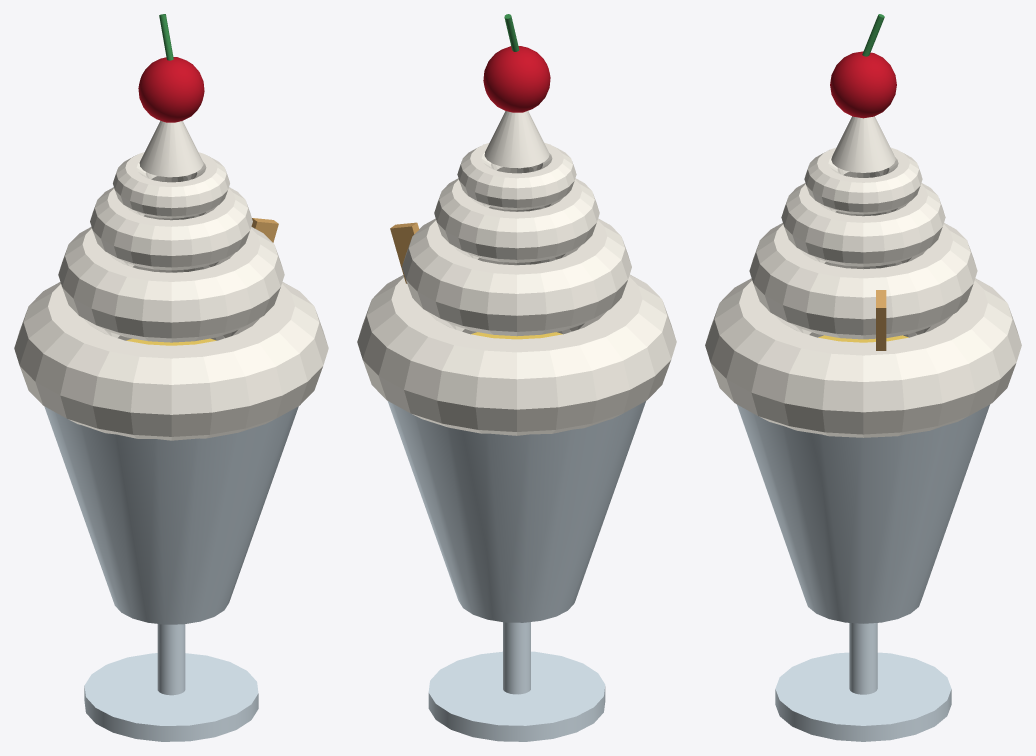
The model's file is Cafe_L8.fbx.
3 views of the same model, side by side, from view 1: azimuth 30°, elevation 25°; view 2: azimuth 150°, elevation 25°; view 3: azimuth 270°, elevation 25° (orthographic).
Parts seen in each view (by area): view 1: C8_Glass, C8_Cream_1, C8_Cream_2, C8_Base, C8_Cream_3, C8_Cream_4, C8_Cherry, C8_Cream_Tip, C8_Stem; view 2: C8_Glass, C8_Cream_1, C8_Cream_2, C8_Base, C8_Cream_3, C8_Cream_4, C8_Cherry, C8_Cream_Tip, C8_Stem, C8_Wafer; view 3: C8_Glass, C8_Cream_1, C8_Cream_2, C8_Base, C8_Cream_3, C8_Cream_4, C8_Cherry, C8_Cream_Tip, C8_Stem, C8_Wafer.
Boxes of the visible parts, x1,y1,x2,y2 form: C8_Glass: [44, 406, 298, 624]; C8_Cream_1: [14, 282, 328, 440]; C8_Cream_2: [58, 227, 284, 342]; C8_Base: [84, 653, 258, 741]; C8_Cream_3: [90, 187, 252, 270]; C8_Cream_4: [113, 152, 229, 218]; C8_Cherry: [138, 57, 204, 122]; C8_Cream_Tip: [139, 120, 203, 177]; C8_Stem: [157, 624, 185, 695]; C8_Glass: [387, 401, 645, 622]; C8_Cream_1: [357, 274, 676, 435]; C8_Cream_2: [402, 218, 631, 336]; C8_Base: [428, 651, 605, 741]; C8_Cream_3: [434, 178, 599, 262]; C8_Cream_4: [457, 142, 576, 209]; C8_Cherry: [483, 46, 550, 112]; C8_Cream_Tip: [484, 111, 549, 168]; C8_Stem: [503, 622, 530, 694]; C8_Wafer: [390, 222, 419, 283]; C8_Glass: [737, 404, 989, 623]; C8_Cream_1: [705, 278, 1021, 437]; C8_Cream_2: [749, 223, 977, 339]; C8_Base: [775, 652, 951, 741]; C8_Cream_3: [781, 183, 945, 266]; C8_Cream_4: [804, 147, 922, 214]; C8_Cherry: [830, 51, 896, 118]; C8_Cream_Tip: [831, 116, 895, 172]; C8_Stem: [849, 623, 877, 694]; C8_Wafer: [876, 290, 886, 350].
Bounding box in the file's own units: 17.98 × 43.19 × 17.98.
